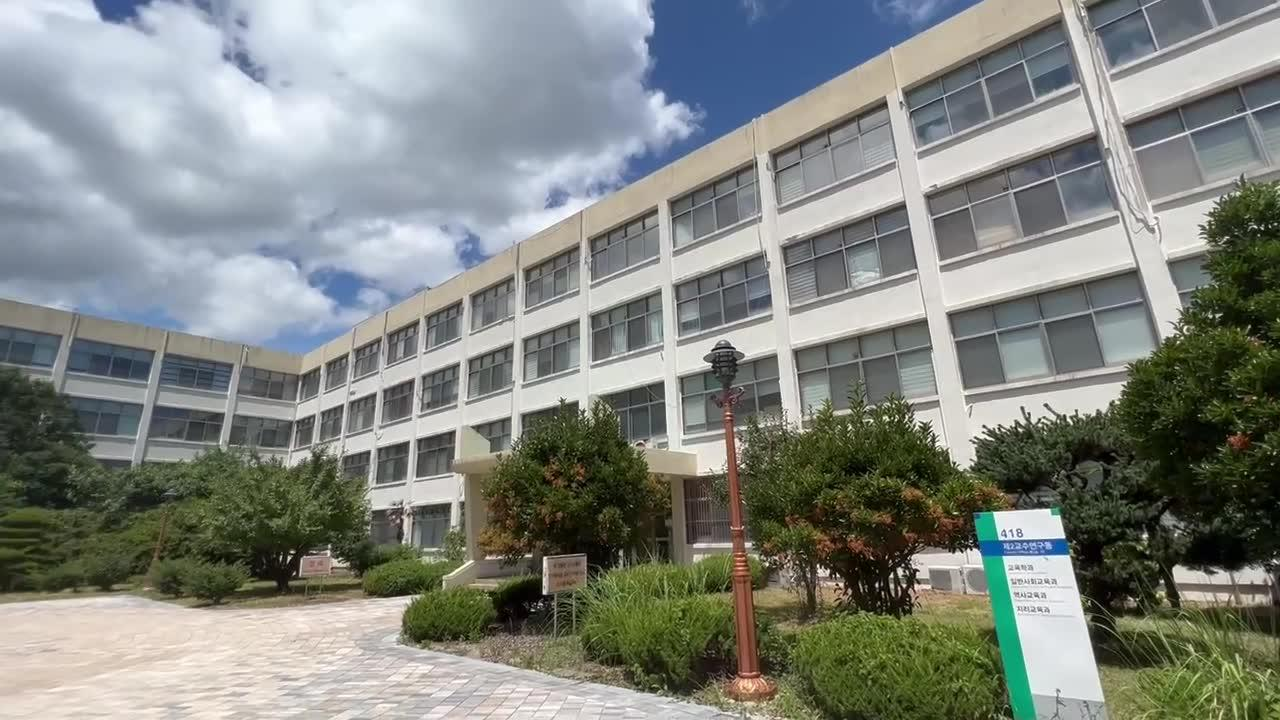building: (311, 181, 1101, 445)
